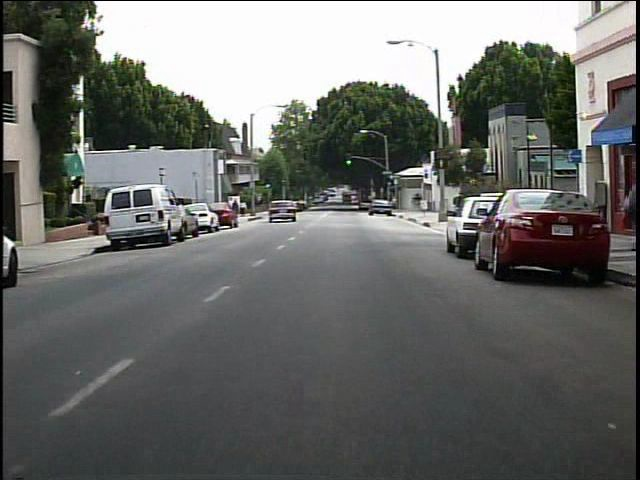person: (240, 199, 252, 221), (228, 197, 240, 218)
